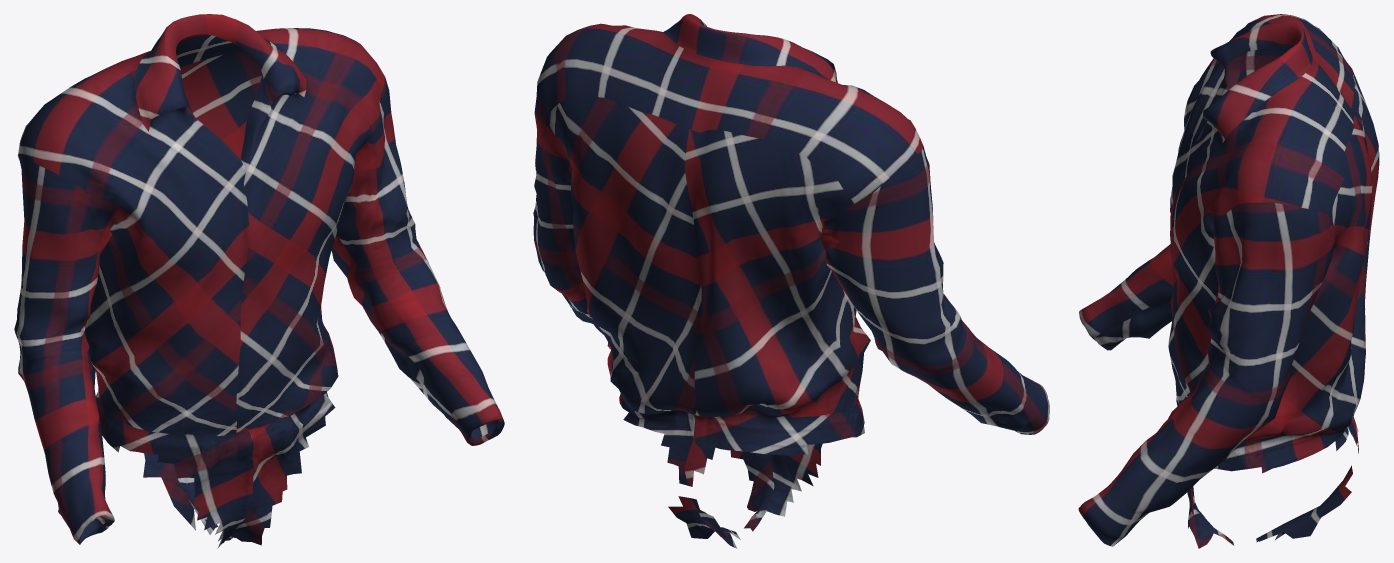
The model's file is flannel-navy-plaid.glb.
3 renders of one model, left to right at view 1: azimuth 30°, elevation 25°; view 2: azimuth 150°, elevation 25°; view 3: azimuth 270°, elevation 25°, orthographic. The views are drawn at different scales.
Parts seen in each view (by area): view 1: shirt-white; view 2: shirt-white; view 3: shirt-white.
Part boxes in pixels (x1=…): shirt-white: x1=14, y1=14, x2=504, y2=548; shirt-white: x1=533, y1=14, x2=1049, y2=548; shirt-white: x1=1078, y1=14, x2=1379, y2=548.
Bounding box in the file's own units: 0.6918 × 0.7764 × 0.4152.
Materials: 1 (1 with a texture image).
